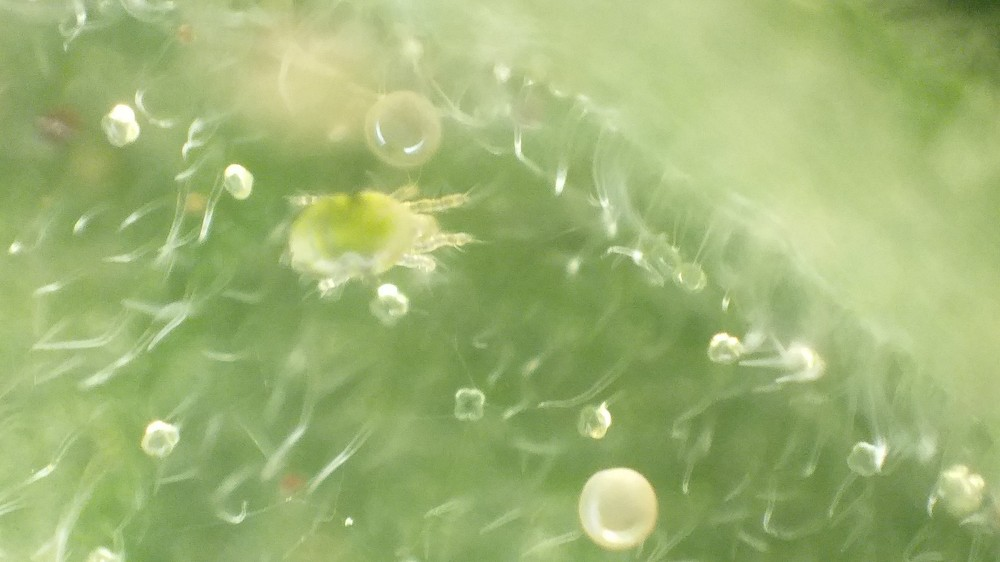Aracnido Rojo: (268, 164, 474, 299)
